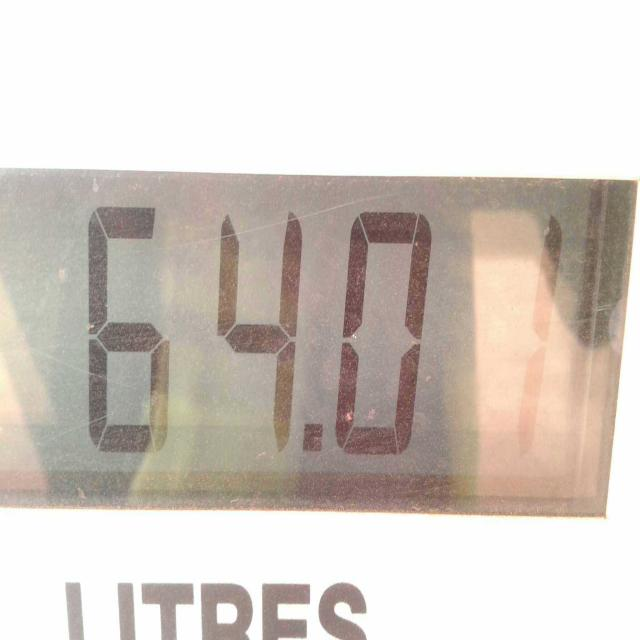.: (305, 417, 323, 457)
0: (336, 213, 433, 460)
4: (212, 214, 302, 453)
6: (86, 206, 173, 452)
